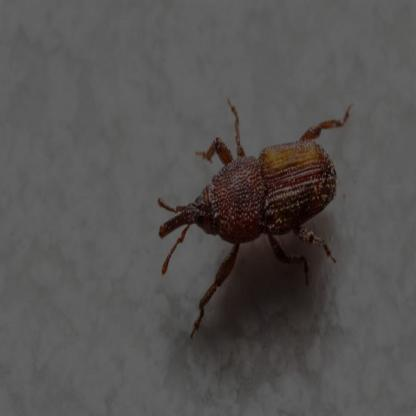rice-bug: (156, 117, 340, 278)
